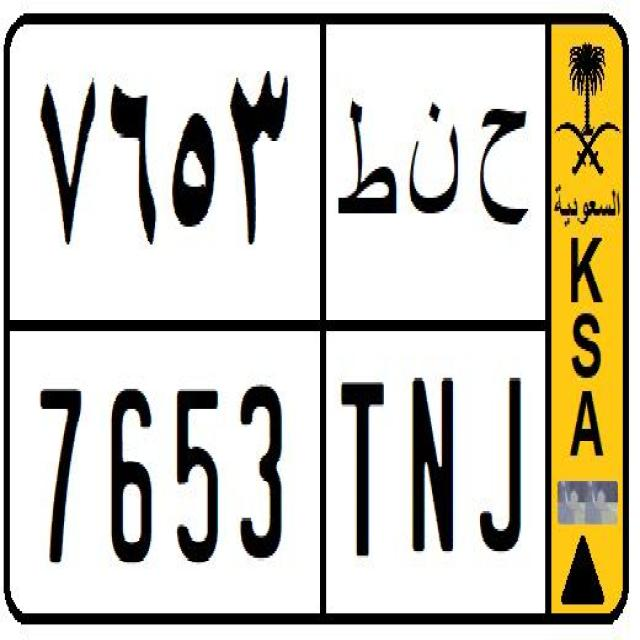license_plate: (28, 356, 536, 575)
